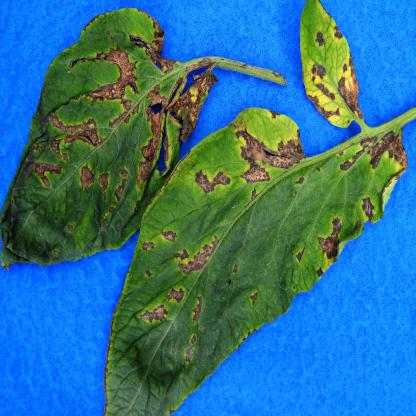tomato leaf bacterial spot: (96, 92, 412, 412), (0, 3, 206, 273), (292, 2, 372, 129)
